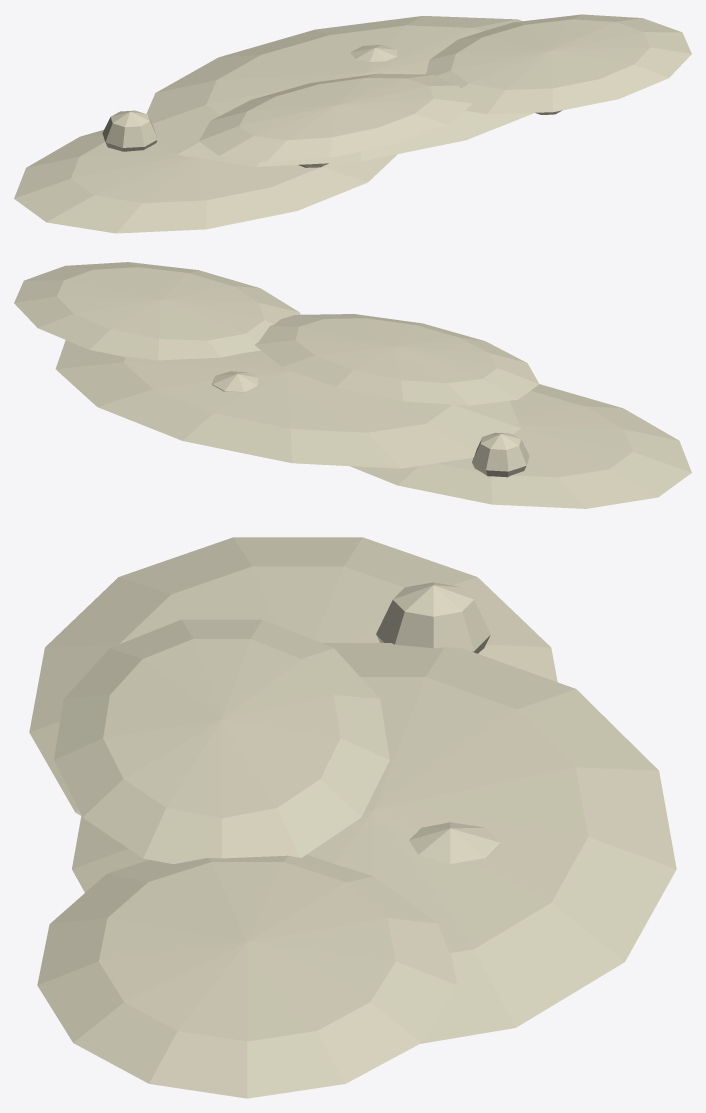
Rendered from carbonate_shelf_a.obj.
The picture shows the model from 3 angles, top to bottom: view 1: azimuth 30°, elevation 25°; view 2: azimuth 150°, elevation 25°; view 3: azimuth 270°, elevation 25°; orthographic projection. The views are drawn at different scales.
Visible parts, largest first — view 1: carbonate_shelf_a; view 2: carbonate_shelf_a; view 3: carbonate_shelf_a.
Part boxes in pixels (x1,y1,x2,y2): carbonate_shelf_a: (14, 14, 691, 233); carbonate_shelf_a: (14, 262, 691, 508); carbonate_shelf_a: (29, 537, 676, 1098).
Bounding box in the file's own units: 8.73 × 0.84 × 3.83.
